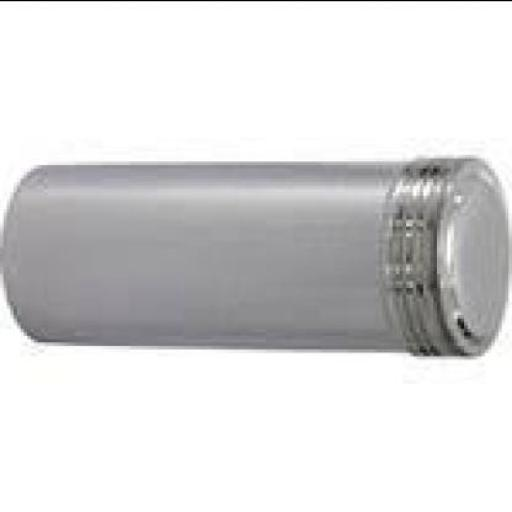metal: (4, 153, 510, 352)
